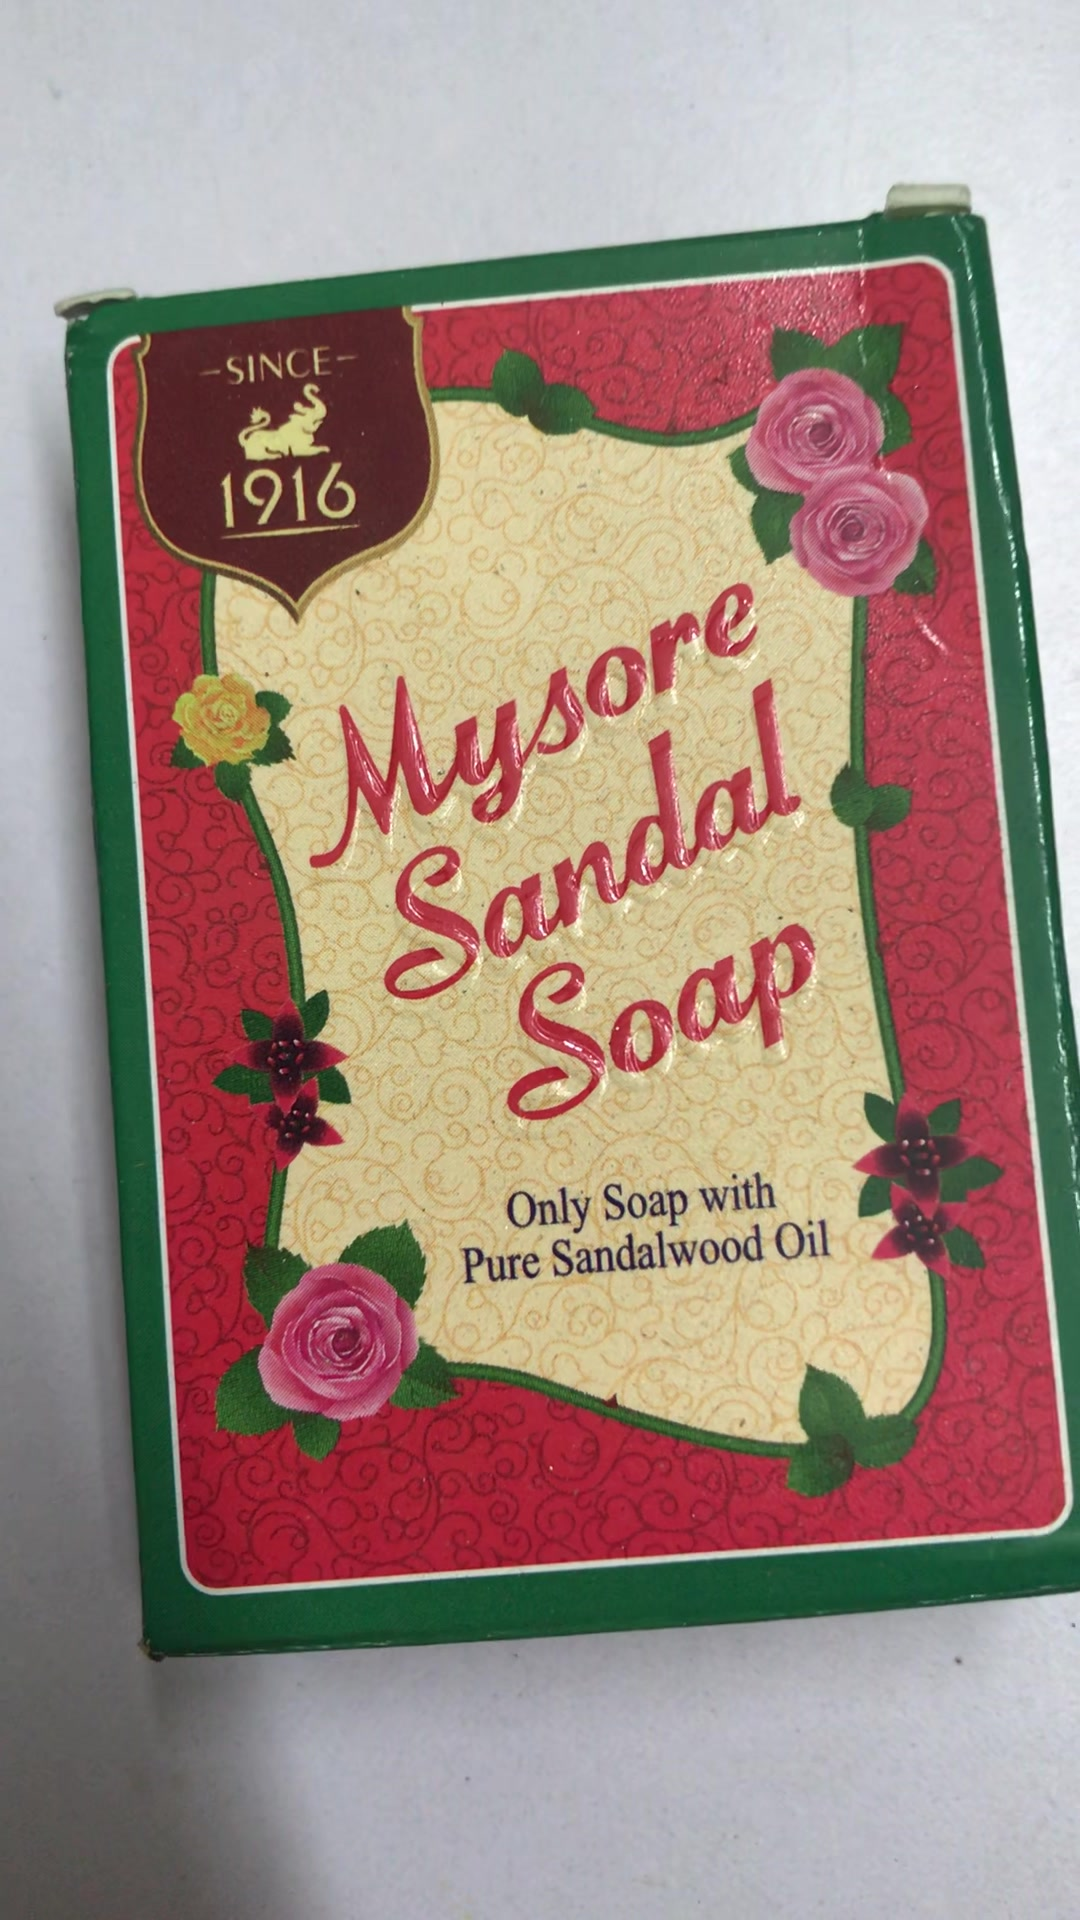mysore sandal soap: (69, 214, 1080, 1650)
